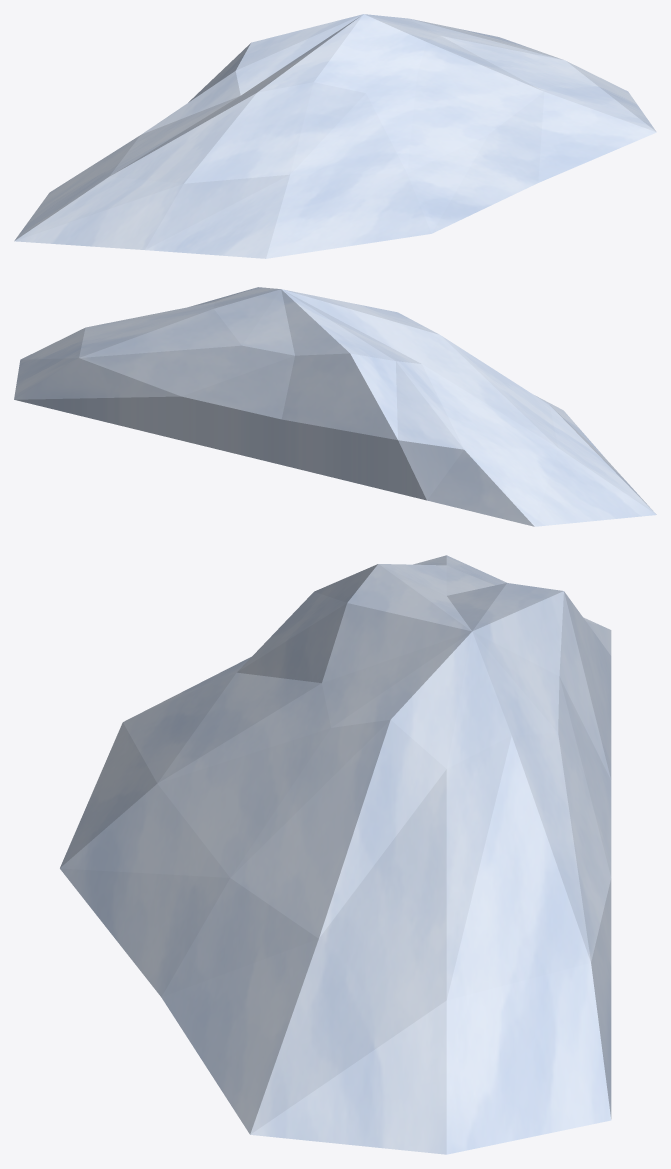
The model's file is drift_fence.glb.
The picture shows the model from 3 angles, top to bottom: view 1: azimuth 30°, elevation 25°; view 2: azimuth 150°, elevation 25°; view 3: azimuth 270°, elevation 25°; orthographic projection. The views are drawn at different scales.
Visible parts, largest first — view 1: winter_drift_fence; view 2: winter_drift_fence; view 3: winter_drift_fence.
Boxes of the visible parts, <box> form: winter_drift_fence: <box>14,14,656,258</box>; winter_drift_fence: <box>14,287,656,526</box>; winter_drift_fence: <box>60,555,611,1154</box>.
Bounding box in the file's own units: 1.8 × 0.38 × 0.7.
1 material, 1 textured.
